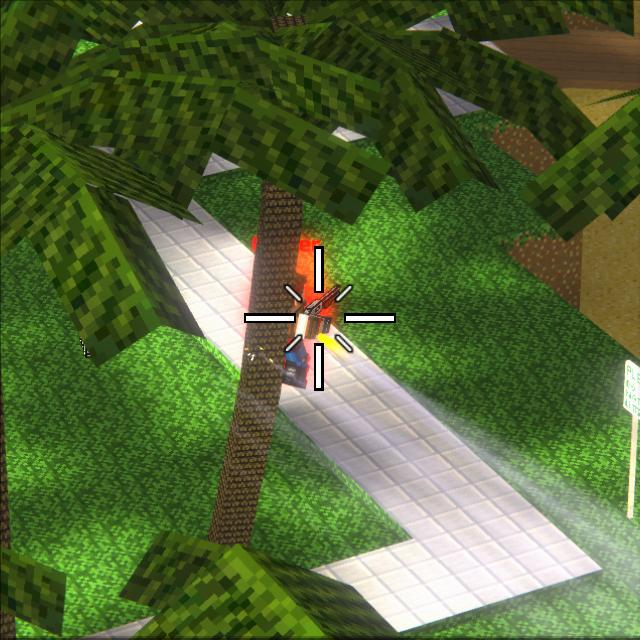Enemy: (283, 275, 331, 393)
